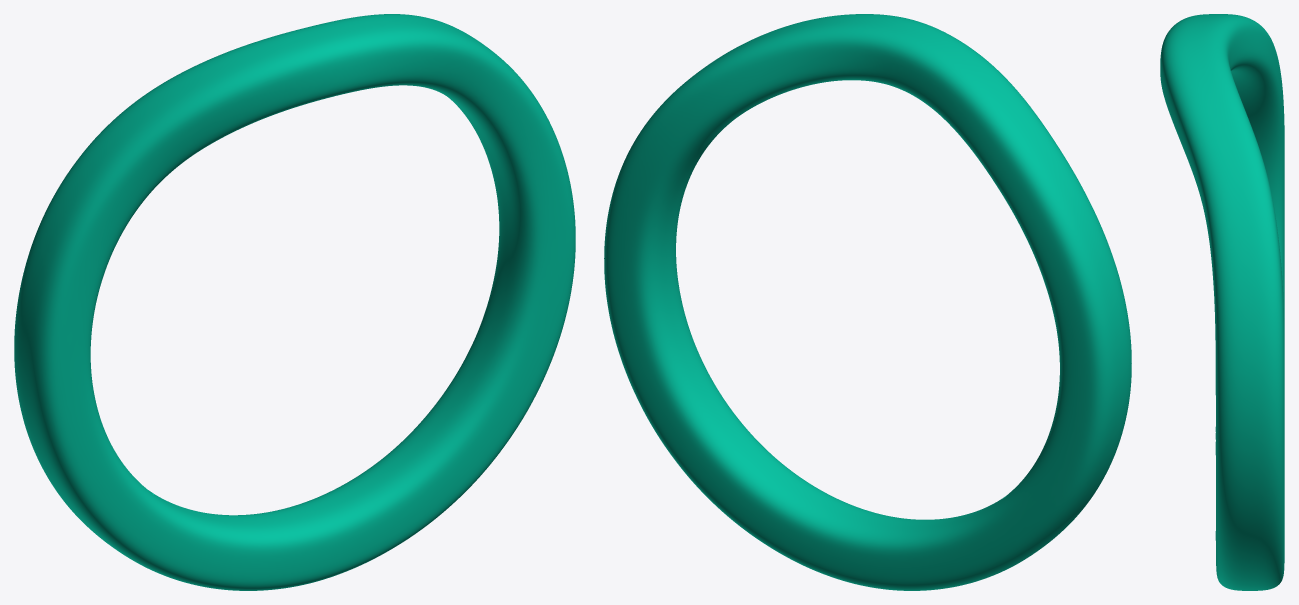
Rendered from BE2816_RENDER.glb.
The picture shows the model from 3 angles, left to right: view 1: azimuth 30°, elevation 25°; view 2: azimuth 150°, elevation 25°; view 3: azimuth 270°, elevation 25°; orthographic projection. The views are drawn at different scales.
Visible parts, largest first — view 1: Metal03; view 2: Metal03; view 3: Metal03.
Part boxes in pixels (<box>): Metal03: <box>14,14,575,590</box>; Metal03: <box>604,14,1131,590</box>; Metal03: <box>1160,14,1284,590</box>.
Bounding box in the file's own units: 20.88 × 20.89 × 4.51.
